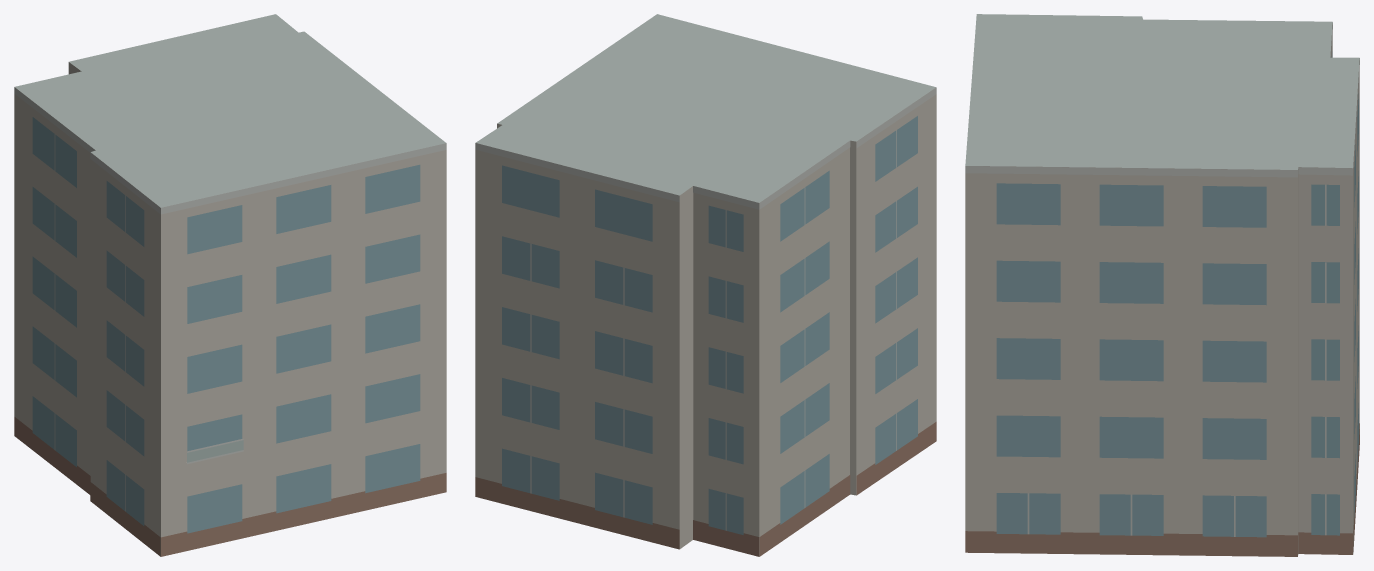
Rendered from survey-upis-32665297.glb.
3 renders of one model, left to right at view 1: azimuth 30°, elevation 25°; view 2: azimuth 150°, elevation 25°; view 3: azimuth 270°, elevation 25°, orthographic. The views are drawn at different scales.
Parts seen in each view (by area): view 1: survey-upis-32665297.tmp; view 2: survey-upis-32665297.tmp; view 3: survey-upis-32665297.tmp.
Boxes of the visible parts, x1,y1,x2,y2 form: survey-upis-32665297.tmp: [14, 14, 446, 556]; survey-upis-32665297.tmp: [475, 14, 936, 556]; survey-upis-32665297.tmp: [965, 14, 1359, 556].
Size of the model in its own units: 11.04 by 12.75 by 11.79.
